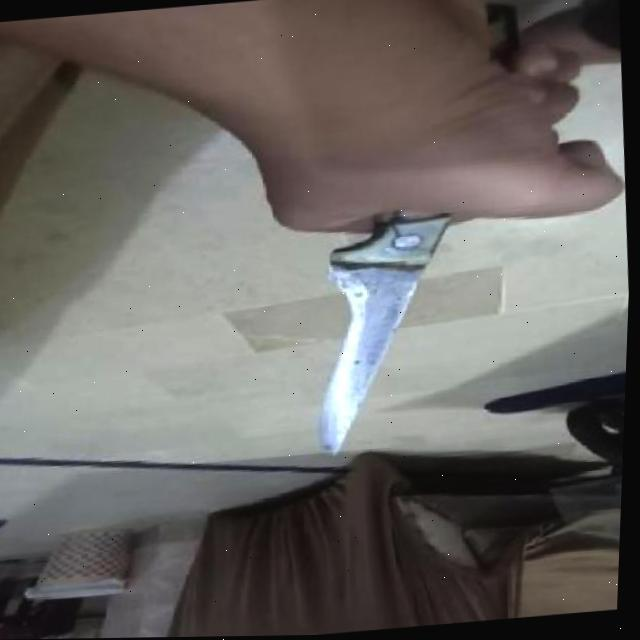knife: (296, 4, 548, 458)
